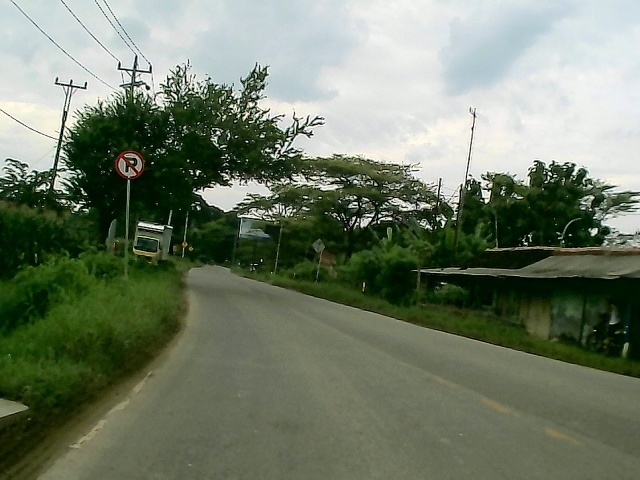Dilarang parkir: (109, 149, 149, 181)
